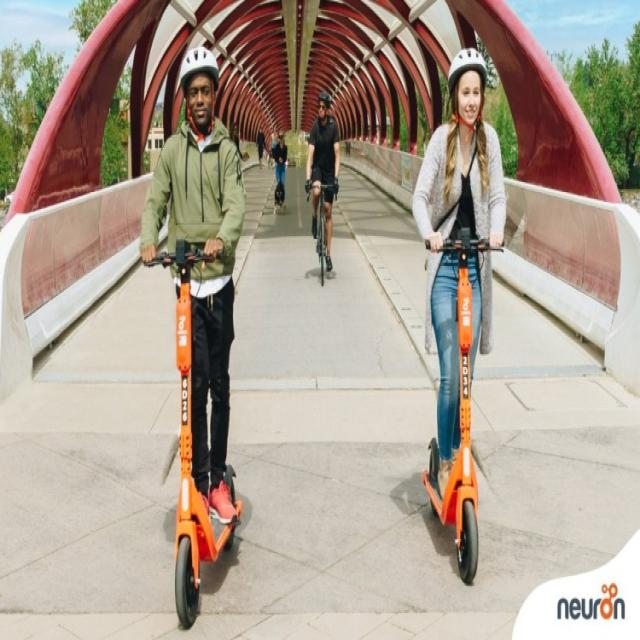helmet: (121, 24, 277, 626), (402, 33, 536, 592)
